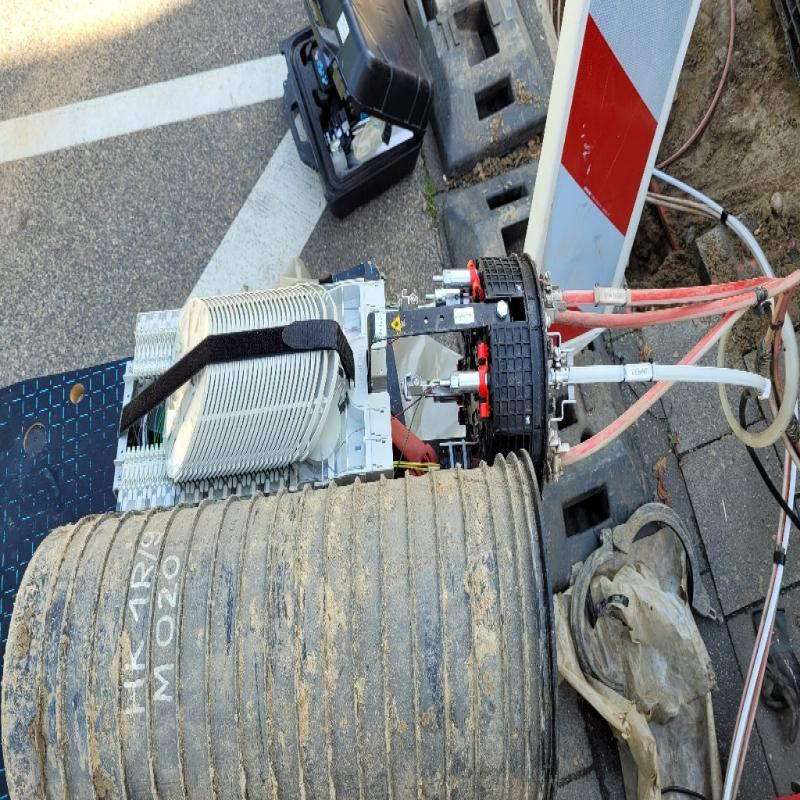NT-Muffen: (108, 249, 578, 509)
